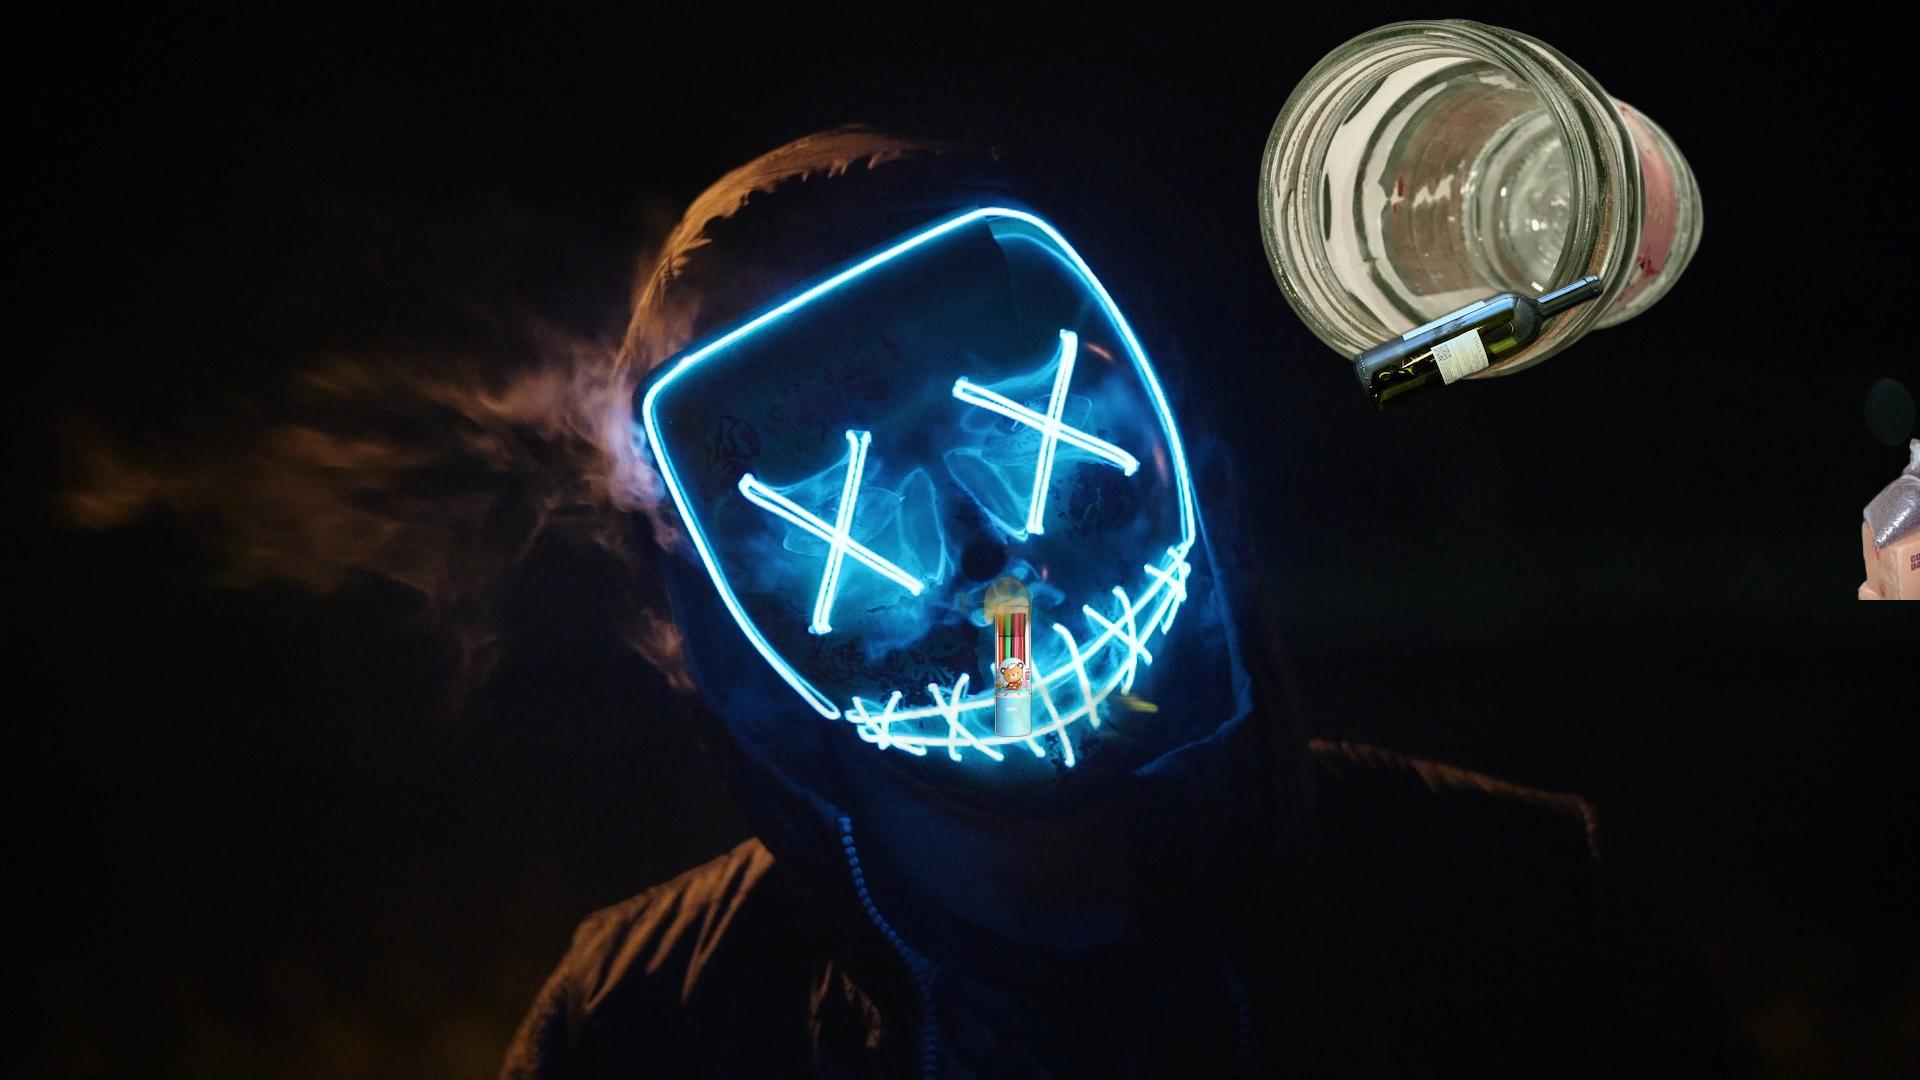glass: (1255, 16, 1709, 381), (1349, 266, 1609, 417)
paper: (767, 527, 1280, 806)
penholder: (992, 603, 1034, 740)
trashbox-cardboard: (1803, 351, 1920, 600)
